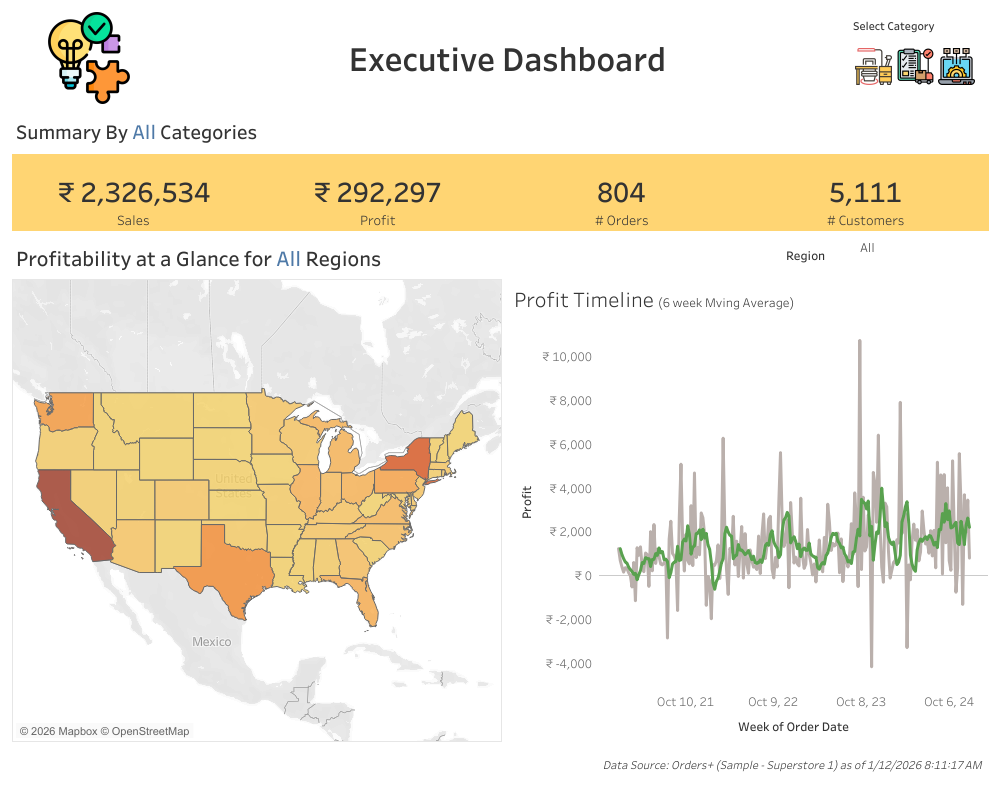

The page's visual inventory and layout, read from the dashboard file:
{"tool":"tableau","page":{"name":"Executive","canvas":[1000,800],"ordinal":0},"visuals":[{"type":"image","param":"Image/problem-solving_5807416.png","box":[8,8,162,100]},{"type":"text","box":[170,8,675,100]},{"type":"worksheet","title":"01 Menu","mark":"Shape","box":[845,8,147,100]},{"type":"worksheet","title":"02 Ban","mark":"Automatic","box":[8,108,984,126]},{"type":"worksheet","title":"03 Title","mark":"Automatic","box":[8,234,774,41]},{"type":"filter","title":"04 Profitability Map","param":"[federated.1axdoqr14b3uh81dhu4t11x6nncg].[none:Region:nk]","box":[782,234,210,41]},{"type":"worksheet","title":"04 Profitability Map","mark":"Automatic","box":[8,275,498.5,485]},{"type":"worksheet","title":"05 Profit Timeline","mark":"Automatic","rows":["Profit"],"cols":["Order Date"],"box":[506.5,275,485.5,485]},{"type":"worksheet","title":"06 Footer","mark":"Automatic","box":[8,760,984,32]}]}

Visuals, with their boxes in screenshot pixels (x1, y1, x2, y2), scaled from the page's 1000x800 canvas onto the 999x799 screenshot:
image: {"left": 8, "top": 8, "right": 170, "bottom": 108}
text: {"left": 170, "top": 8, "right": 844, "bottom": 108}
"01 Menu" worksheet (Shape marks): {"left": 844, "top": 8, "right": 991, "bottom": 108}
"02 Ban" worksheet: {"left": 8, "top": 108, "right": 991, "bottom": 234}
"03 Title" worksheet: {"left": 8, "top": 234, "right": 781, "bottom": 275}
"04 Profitability Map" filter: {"left": 781, "top": 234, "right": 991, "bottom": 275}
"04 Profitability Map" worksheet: {"left": 8, "top": 275, "right": 506, "bottom": 759}
"05 Profit Timeline" worksheet: {"left": 506, "top": 275, "right": 991, "bottom": 759}
"06 Footer" worksheet: {"left": 8, "top": 759, "right": 991, "bottom": 791}
